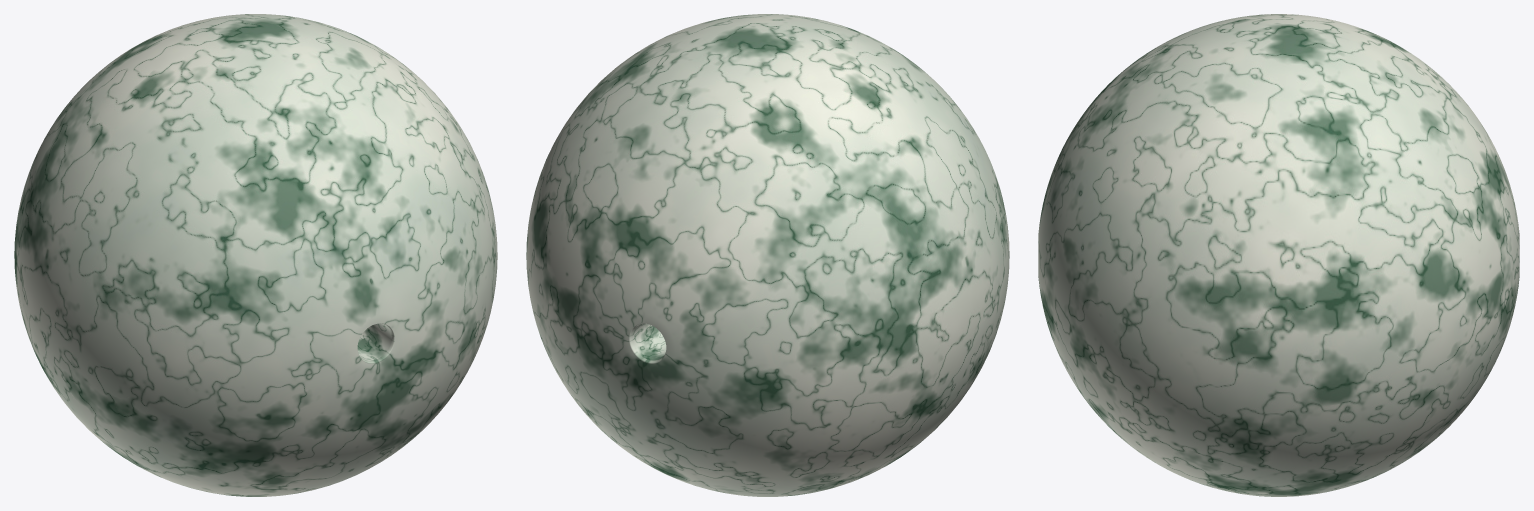
Rendered from tree-agate-12mm.glb.
3 views of the same model, side by side, from view 1: azimuth 30°, elevation 25°; view 2: azimuth 150°, elevation 25°; view 3: azimuth 270°, elevation 25° (orthographic).
Visible parts, largest first — view 1: tree-agate.001; view 2: tree-agate.001; view 3: tree-agate.001.
Part boxes in pixels (bbox=[...]): tree-agate.001: bbox=[14, 14, 497, 496]; tree-agate.001: bbox=[526, 14, 1009, 496]; tree-agate.001: bbox=[1038, 14, 1519, 496].
Bounding box in the file's own units: 0.012 × 0.012 × 0.012.
Materials: 1 (1 with a texture image).
